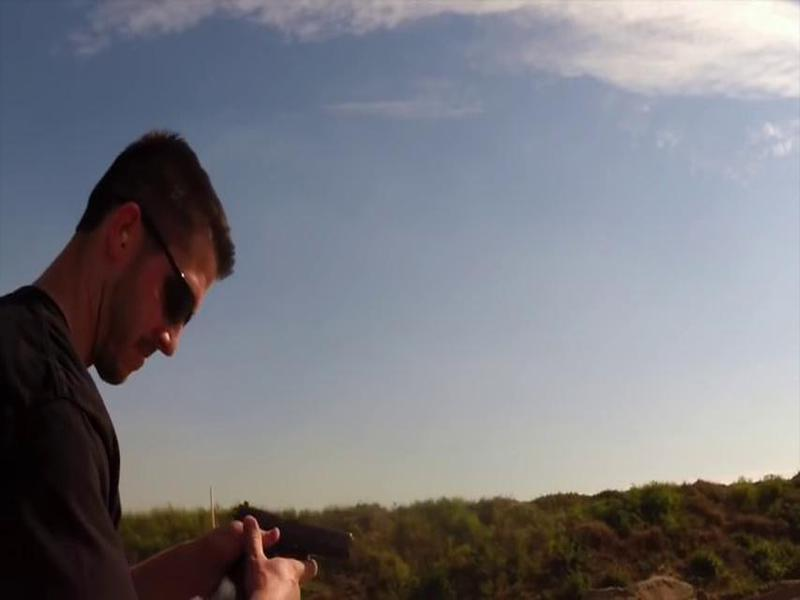Pistola: (226, 492, 365, 600)
